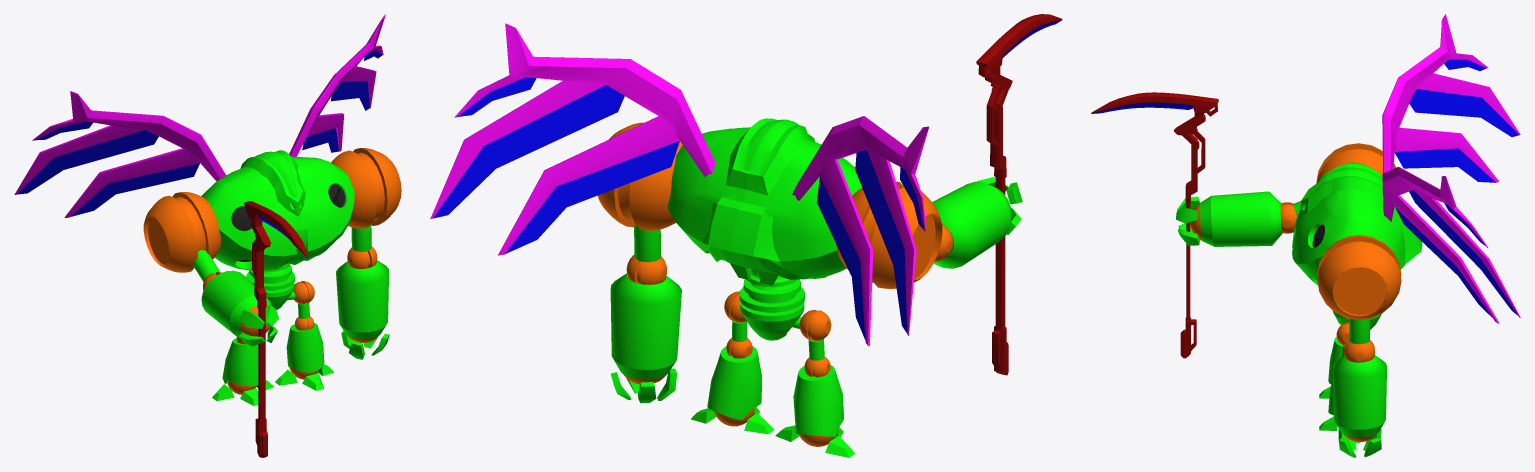
Rendered from RobotUVMeshTest.obj.
3 views of the same model, side by side, from view 1: azimuth 30°, elevation 25°; view 2: azimuth 150°, elevation 25°; view 3: azimuth 270°, elevation 25° (orthographic). The views are drawn at different scales.
Visible parts, largest first — view 1: polySurface587; view 2: polySurface587; view 3: polySurface587.
Part boxes in pixels (x1,y1,x2,y2): polySurface587: [14, 14, 401, 457]; polySurface587: [430, 14, 1062, 457]; polySurface587: [1091, 14, 1520, 457].
Size of the model in its own units: 6.48 by 5.24 by 6.43.
